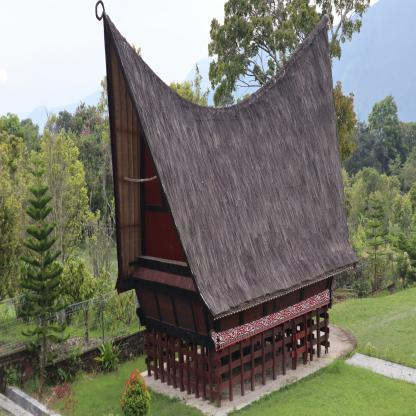Building Outline: (95, 0, 359, 408)
Facade: (214, 277, 329, 407)
Floor Slab: (215, 305, 329, 359)
Molding: (210, 288, 330, 352)
Raised Floor: (213, 256, 329, 352)
Roof: (95, 0, 359, 321)
